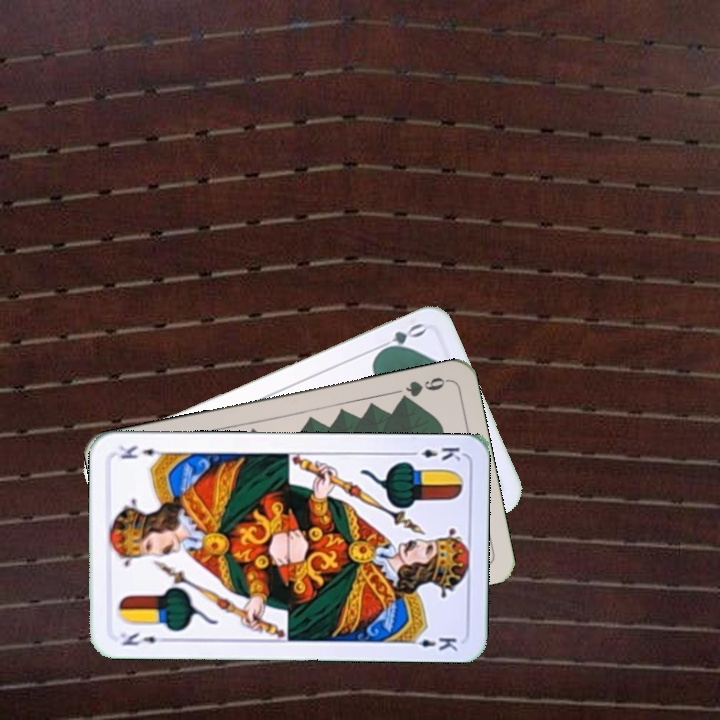EK: (404, 443, 463, 463), (116, 628, 171, 648)
G9: (395, 373, 451, 405)
GO: (371, 319, 428, 358)
